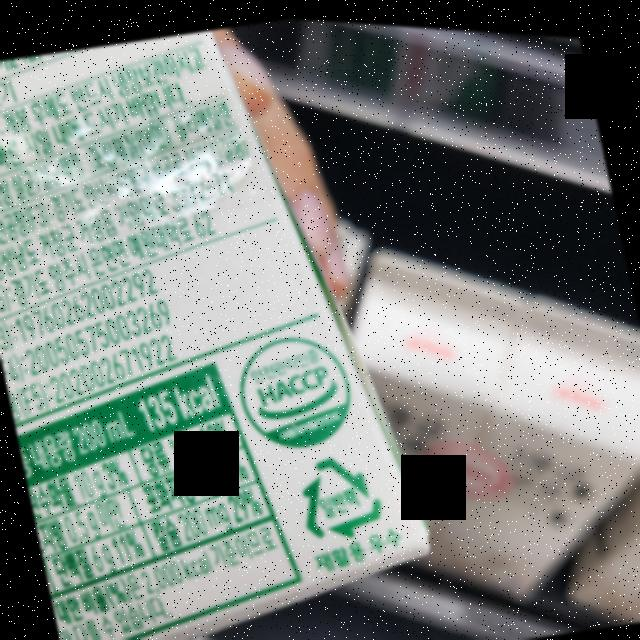NormalPack: (290, 439, 390, 544)
